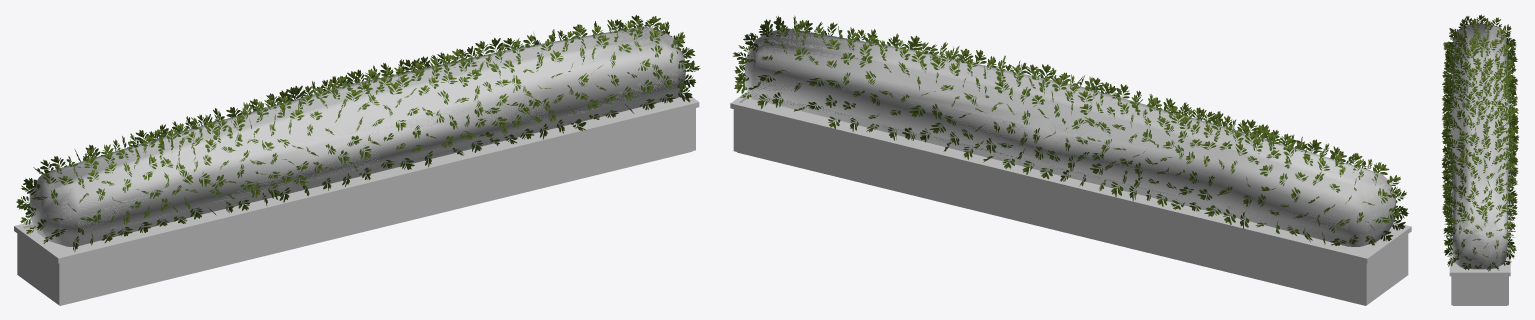
Rendered from jctHedgeB.fbx.
3 views of the same model, side by side, from view 1: azimuth 30°, elevation 25°; view 2: azimuth 150°, elevation 25°; view 3: azimuth 270°, elevation 25° (orthographic). The views are drawn at different scales.
Visible parts, largest first — view 1: jctHedgeB_LOD0; view 2: jctHedgeB_LOD0; view 3: jctHedgeB_LOD0.
Part boxes in pixels (box(x1,y1,x2,y2)): jctHedgeB_LOD0: box(14, 15, 700, 305); jctHedgeB_LOD0: box(730, 15, 1411, 305); jctHedgeB_LOD0: box(1441, 14, 1518, 305).
Size of the model in its own units: 624 by 122 by 94.54.
